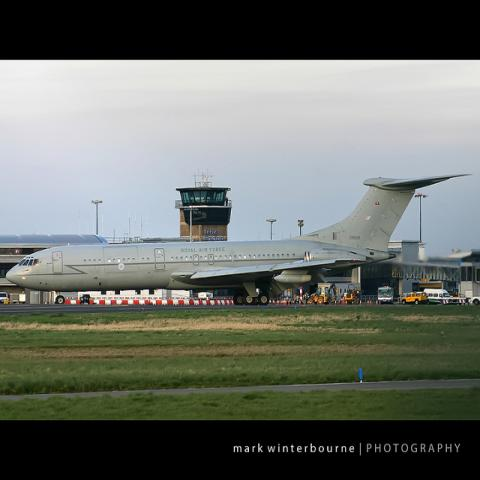bus: (401, 292, 427, 305), (377, 287, 394, 303)
car: (0, 292, 8, 302)
truck: (429, 279, 479, 307), (402, 291, 428, 305), (308, 292, 328, 305)
